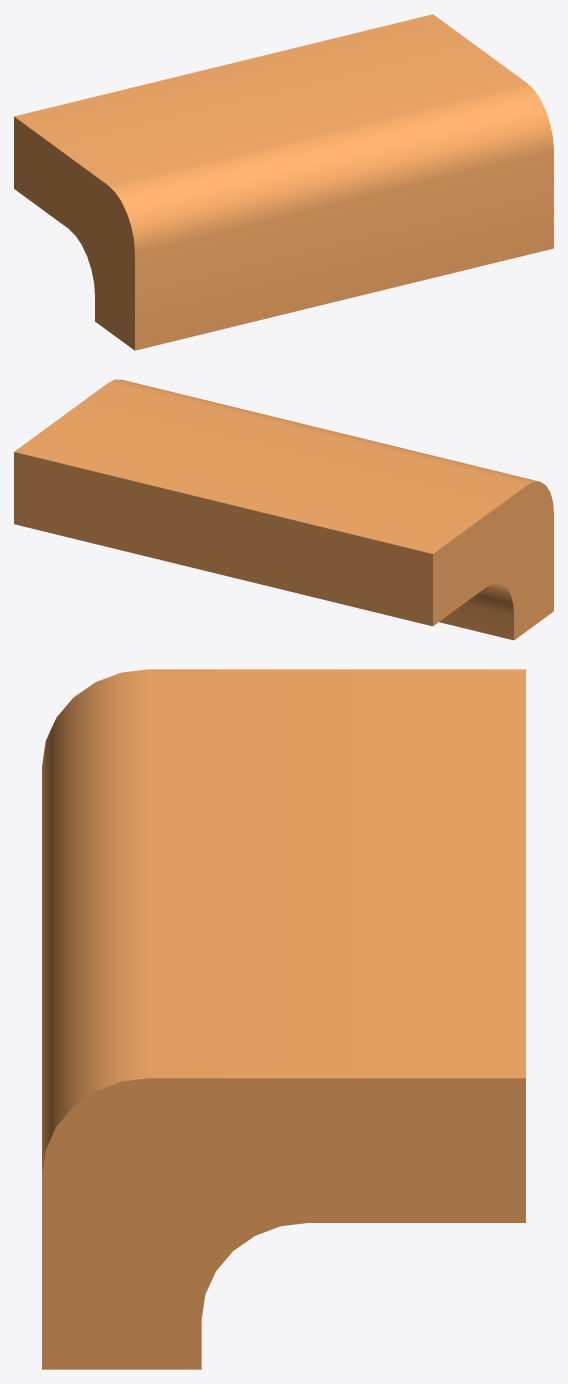
File: Link E L Type.fbx
3 views of the same model, one above another, from view 1: azimuth 30°, elevation 25°; view 2: azimuth 150°, elevation 25°; view 3: azimuth 270°, elevation 25° (orthographic). The views are drawn at different scales.
Visible parts, largest first — view 1: Link E L Type; view 2: Link E L Type; view 3: Link E L Type.
Boxes of the visible parts, left/top/right/bottom form: Link E L Type: left=14, top=14, right=553, bottom=350; Link E L Type: left=14, top=379, right=553, bottom=640; Link E L Type: left=42, top=669, right=525, bottom=1369.
Bounding box in the file's own units: 300 × 99.69 × 150.
